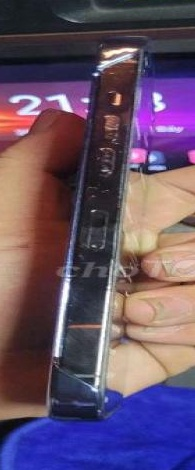scratch: (55, 133, 151, 227)
